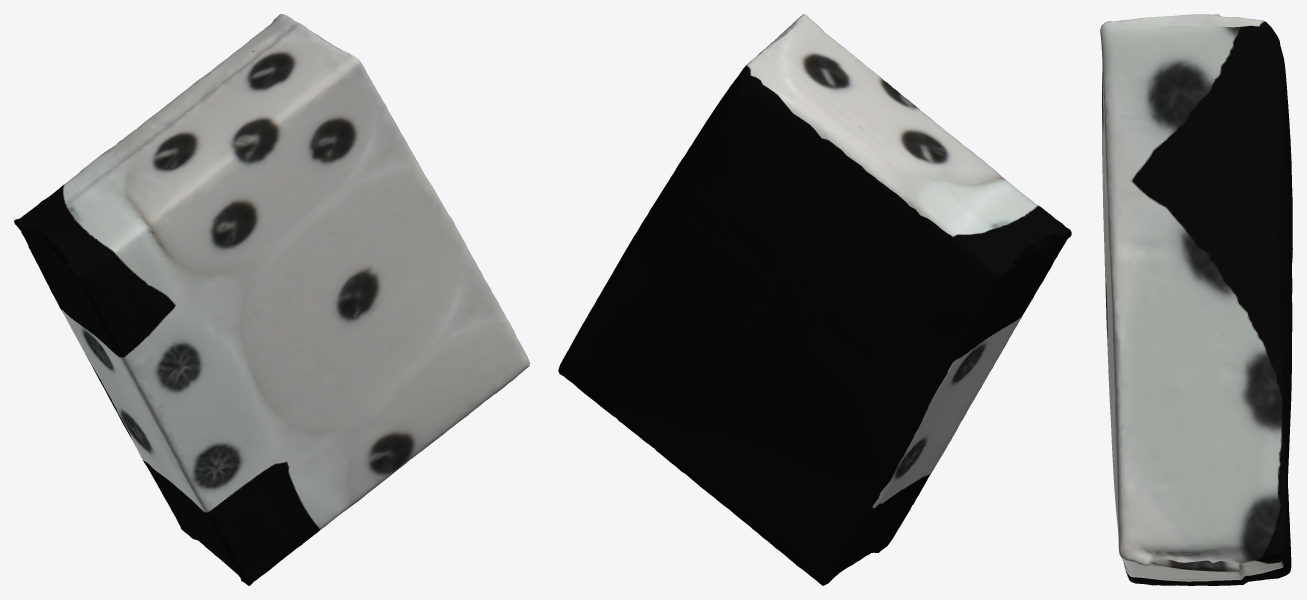
3 renders of one model, left to right at view 1: azimuth 30°, elevation 25°; view 2: azimuth 150°, elevation 25°; view 3: azimuth 270°, elevation 25°, orthographic. The views are drawn at different scales.
Visible parts, largest first — view 1: textured.007; view 2: textured.007; view 3: textured.007.
Boxes of the visible parts, x1,y1,x2,y2 form: textured.007: (14,14,529,585); textured.007: (558,14,1071,585); textured.007: (1100,14,1292,585).
Size of the model in its own units: 0.1288 by 0.1379 by 0.0389.
